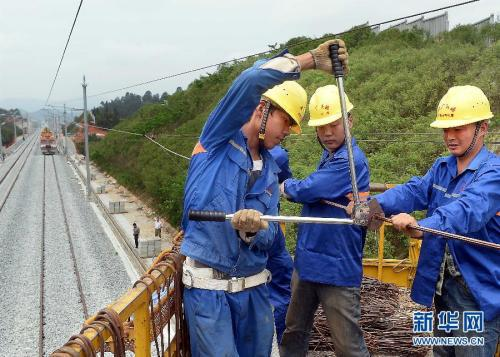helmet: (251, 72, 319, 148), (433, 80, 495, 162), (305, 77, 348, 154)
